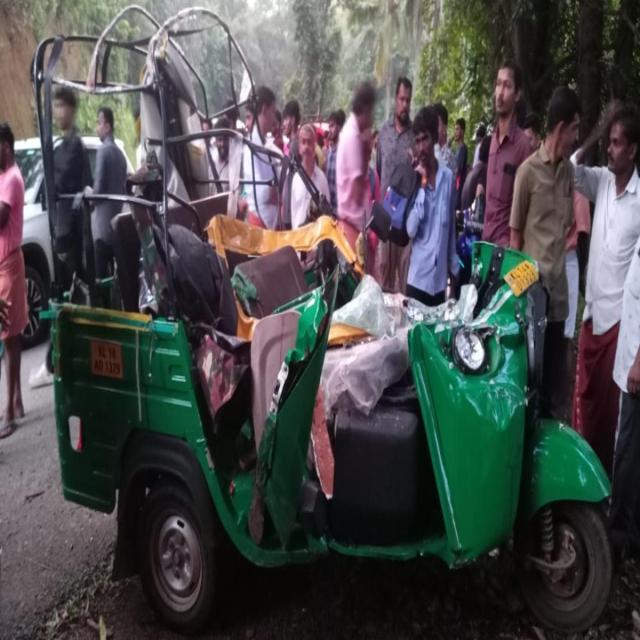accident: (31, 9, 611, 632)
car: (15, 138, 54, 348), (82, 136, 100, 170)
